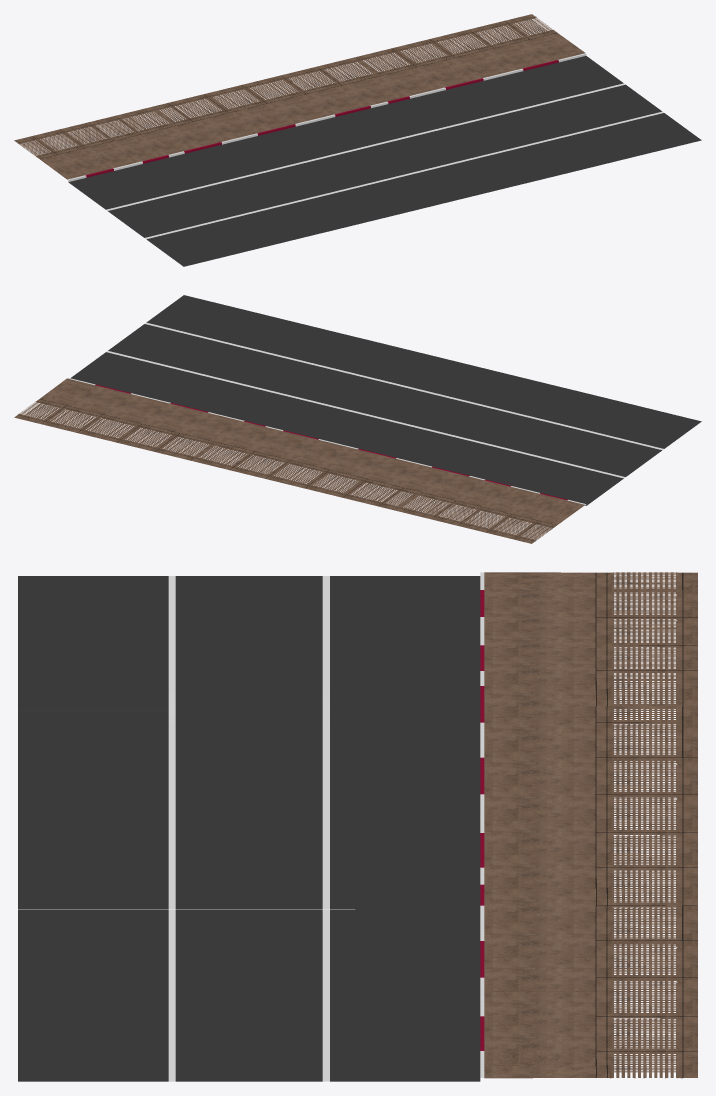
File: route.glb
3 views of the same model, one above another, from view 1: azimuth 30°, elevation 25°; view 2: azimuth 150°, elevation 25°; view 3: azimuth 270°, elevation 25° (orthographic). The views are drawn at different scales.
Visible parts, largest first — view 1: Cube.001_Material.065_0, Cube.001_Large Floor Tiles_0, Cube.001_Material.058_0, Cube.001_Material.062_0, Cube.001_Material.059_0; view 2: Cube.001_Material.065_0, Cube.001_Large Floor Tiles_0, Cube.001_Material.058_0, Cube.001_Material.062_0, Cube.001_Material.059_0; view 3: Cube.001_Material.065_0, Cube.001_Large Floor Tiles_0, Cube.001_Material.058_0, Cube.001_Material.062_0, Cube.001_Material.059_0.
Part boxes in pixels (x1,y1,x2,y2): Cube.001_Material.065_0: [68, 56, 701, 266]; Cube.001_Large Floor Tiles_0: [14, 14, 584, 179]; Cube.001_Material.058_0: [67, 53, 663, 239]; Cube.001_Material.062_0: [18, 17, 556, 158]; Cube.001_Material.059_0: [85, 60, 558, 177]; Cube.001_Material.065_0: [70, 295, 701, 505]; Cube.001_Large Floor Tiles_0: [14, 378, 584, 543]; Cube.001_Material.058_0: [67, 322, 663, 505]; Cube.001_Material.062_0: [20, 399, 556, 541]; Cube.001_Material.059_0: [95, 384, 567, 500]; Cube.001_Material.065_0: [18, 576, 480, 1081]; Cube.001_Large Floor Tiles_0: [484, 572, 697, 1078]; Cube.001_Material.058_0: [168, 572, 484, 1081]; Cube.001_Material.062_0: [595, 572, 697, 1077]; Cube.001_Material.059_0: [480, 590, 484, 1050].
Bounding box in the file's own units: 30.1 × 0.1045 × 17.09.
5 materials, 1 textured.
